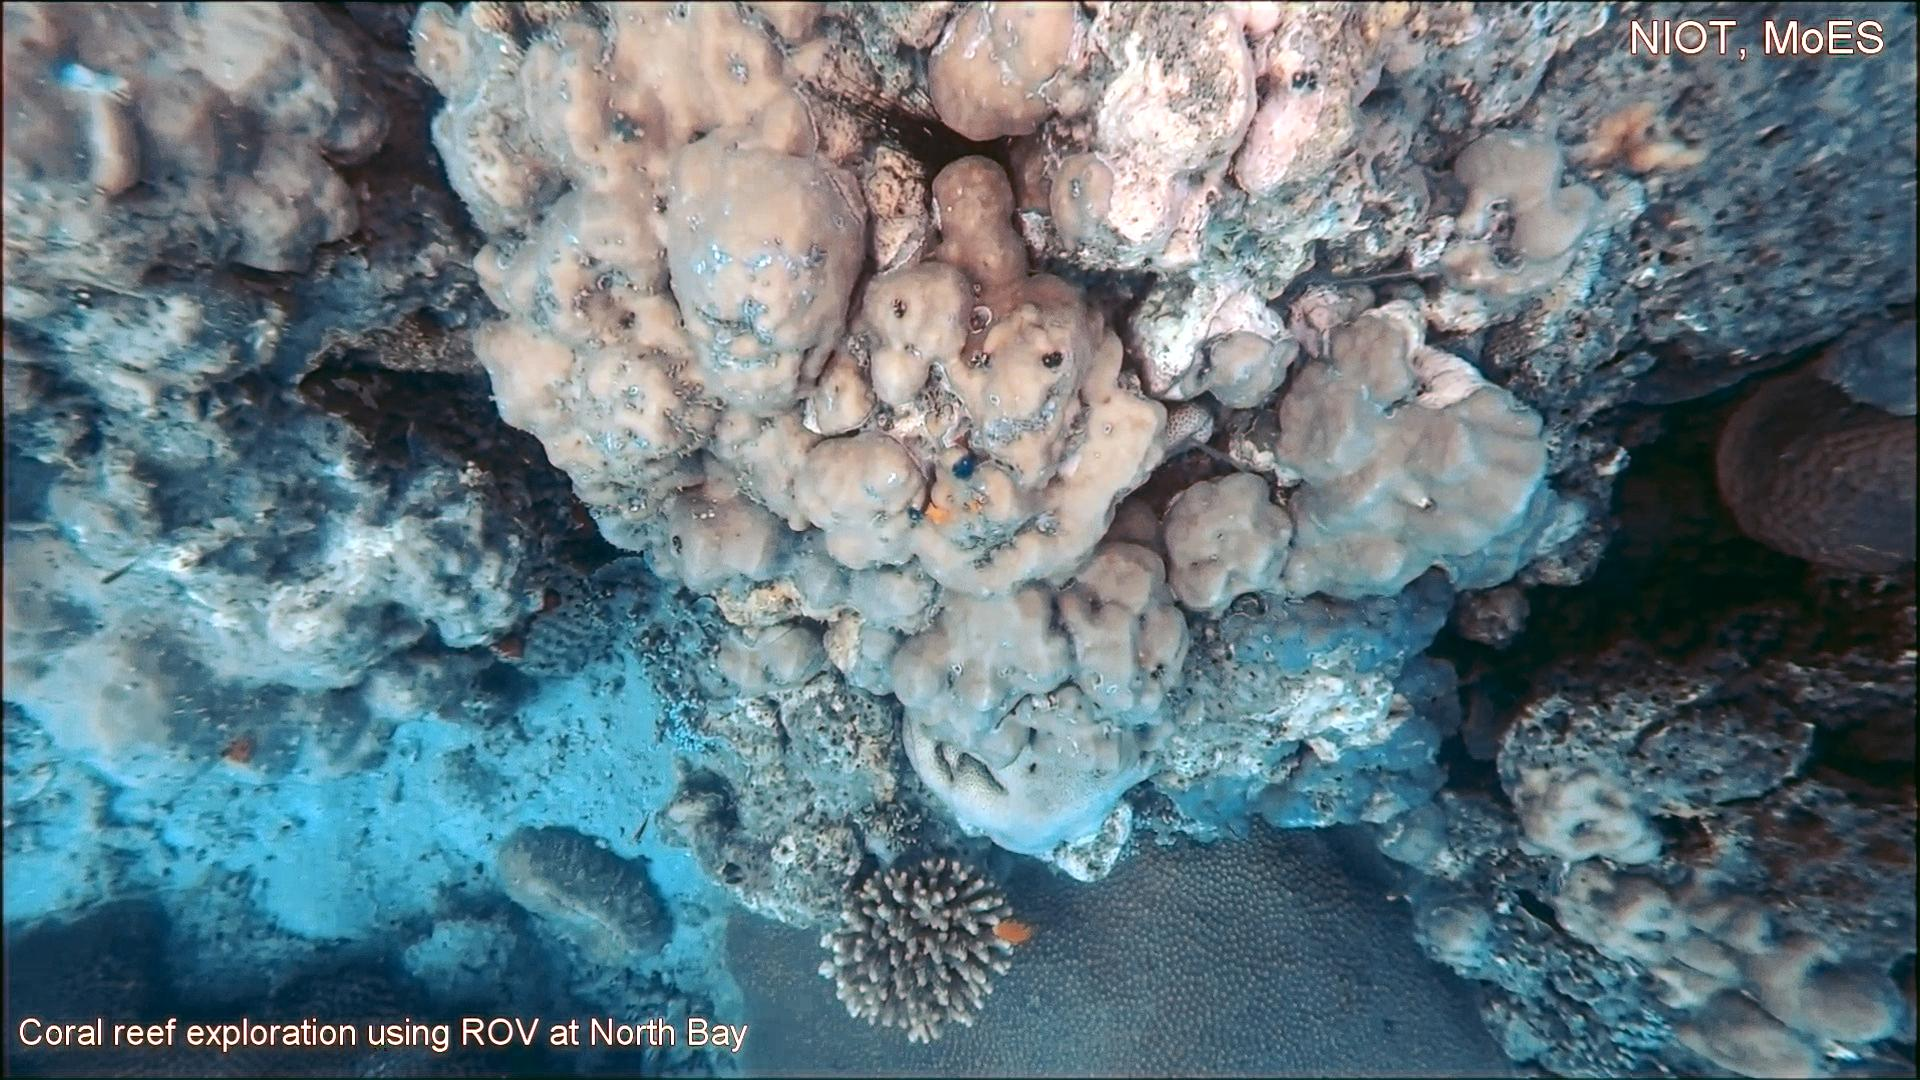Meandrina meandrites: (1705, 357, 1920, 582)
